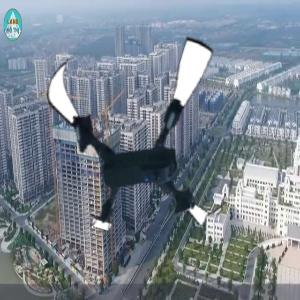drone: (37, 26, 249, 238)
